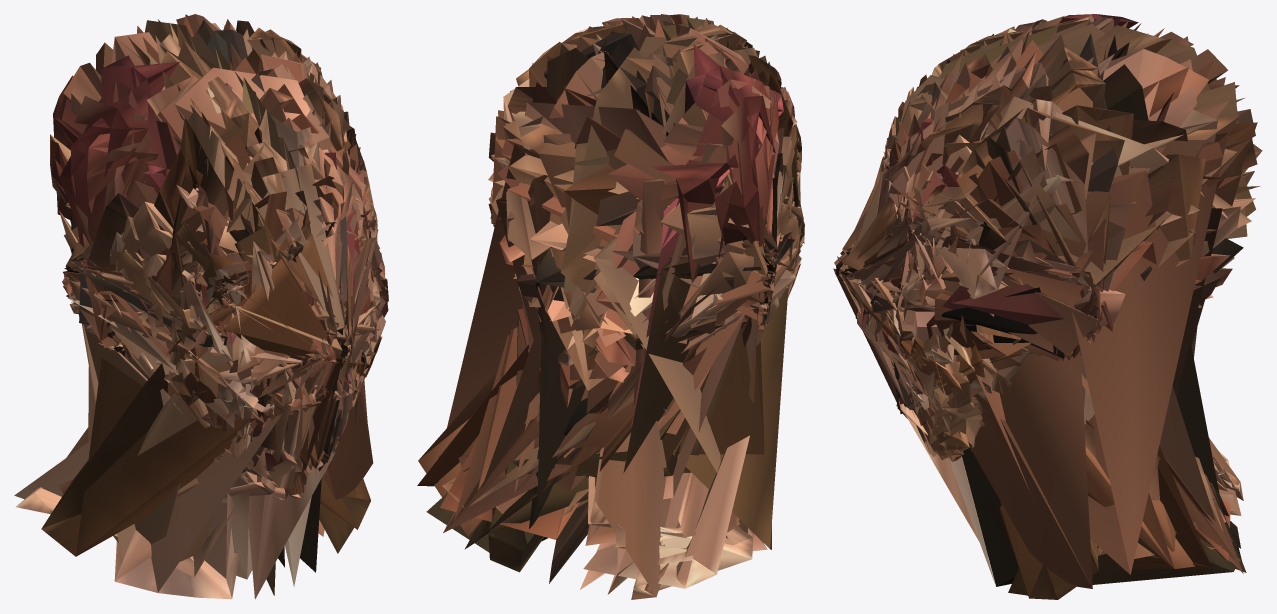
The model's file is image02673.obj.
The picture shows the model from 3 angles, left to right: view 1: azimuth 30°, elevation 25°; view 2: azimuth 150°, elevation 25°; view 3: azimuth 270°, elevation 25°; orthographic projection. The views are drawn at different scales.
Size of the model in its own units: 0.208 by 0.3173 by 0.2278.
1 material, 1 textured.
